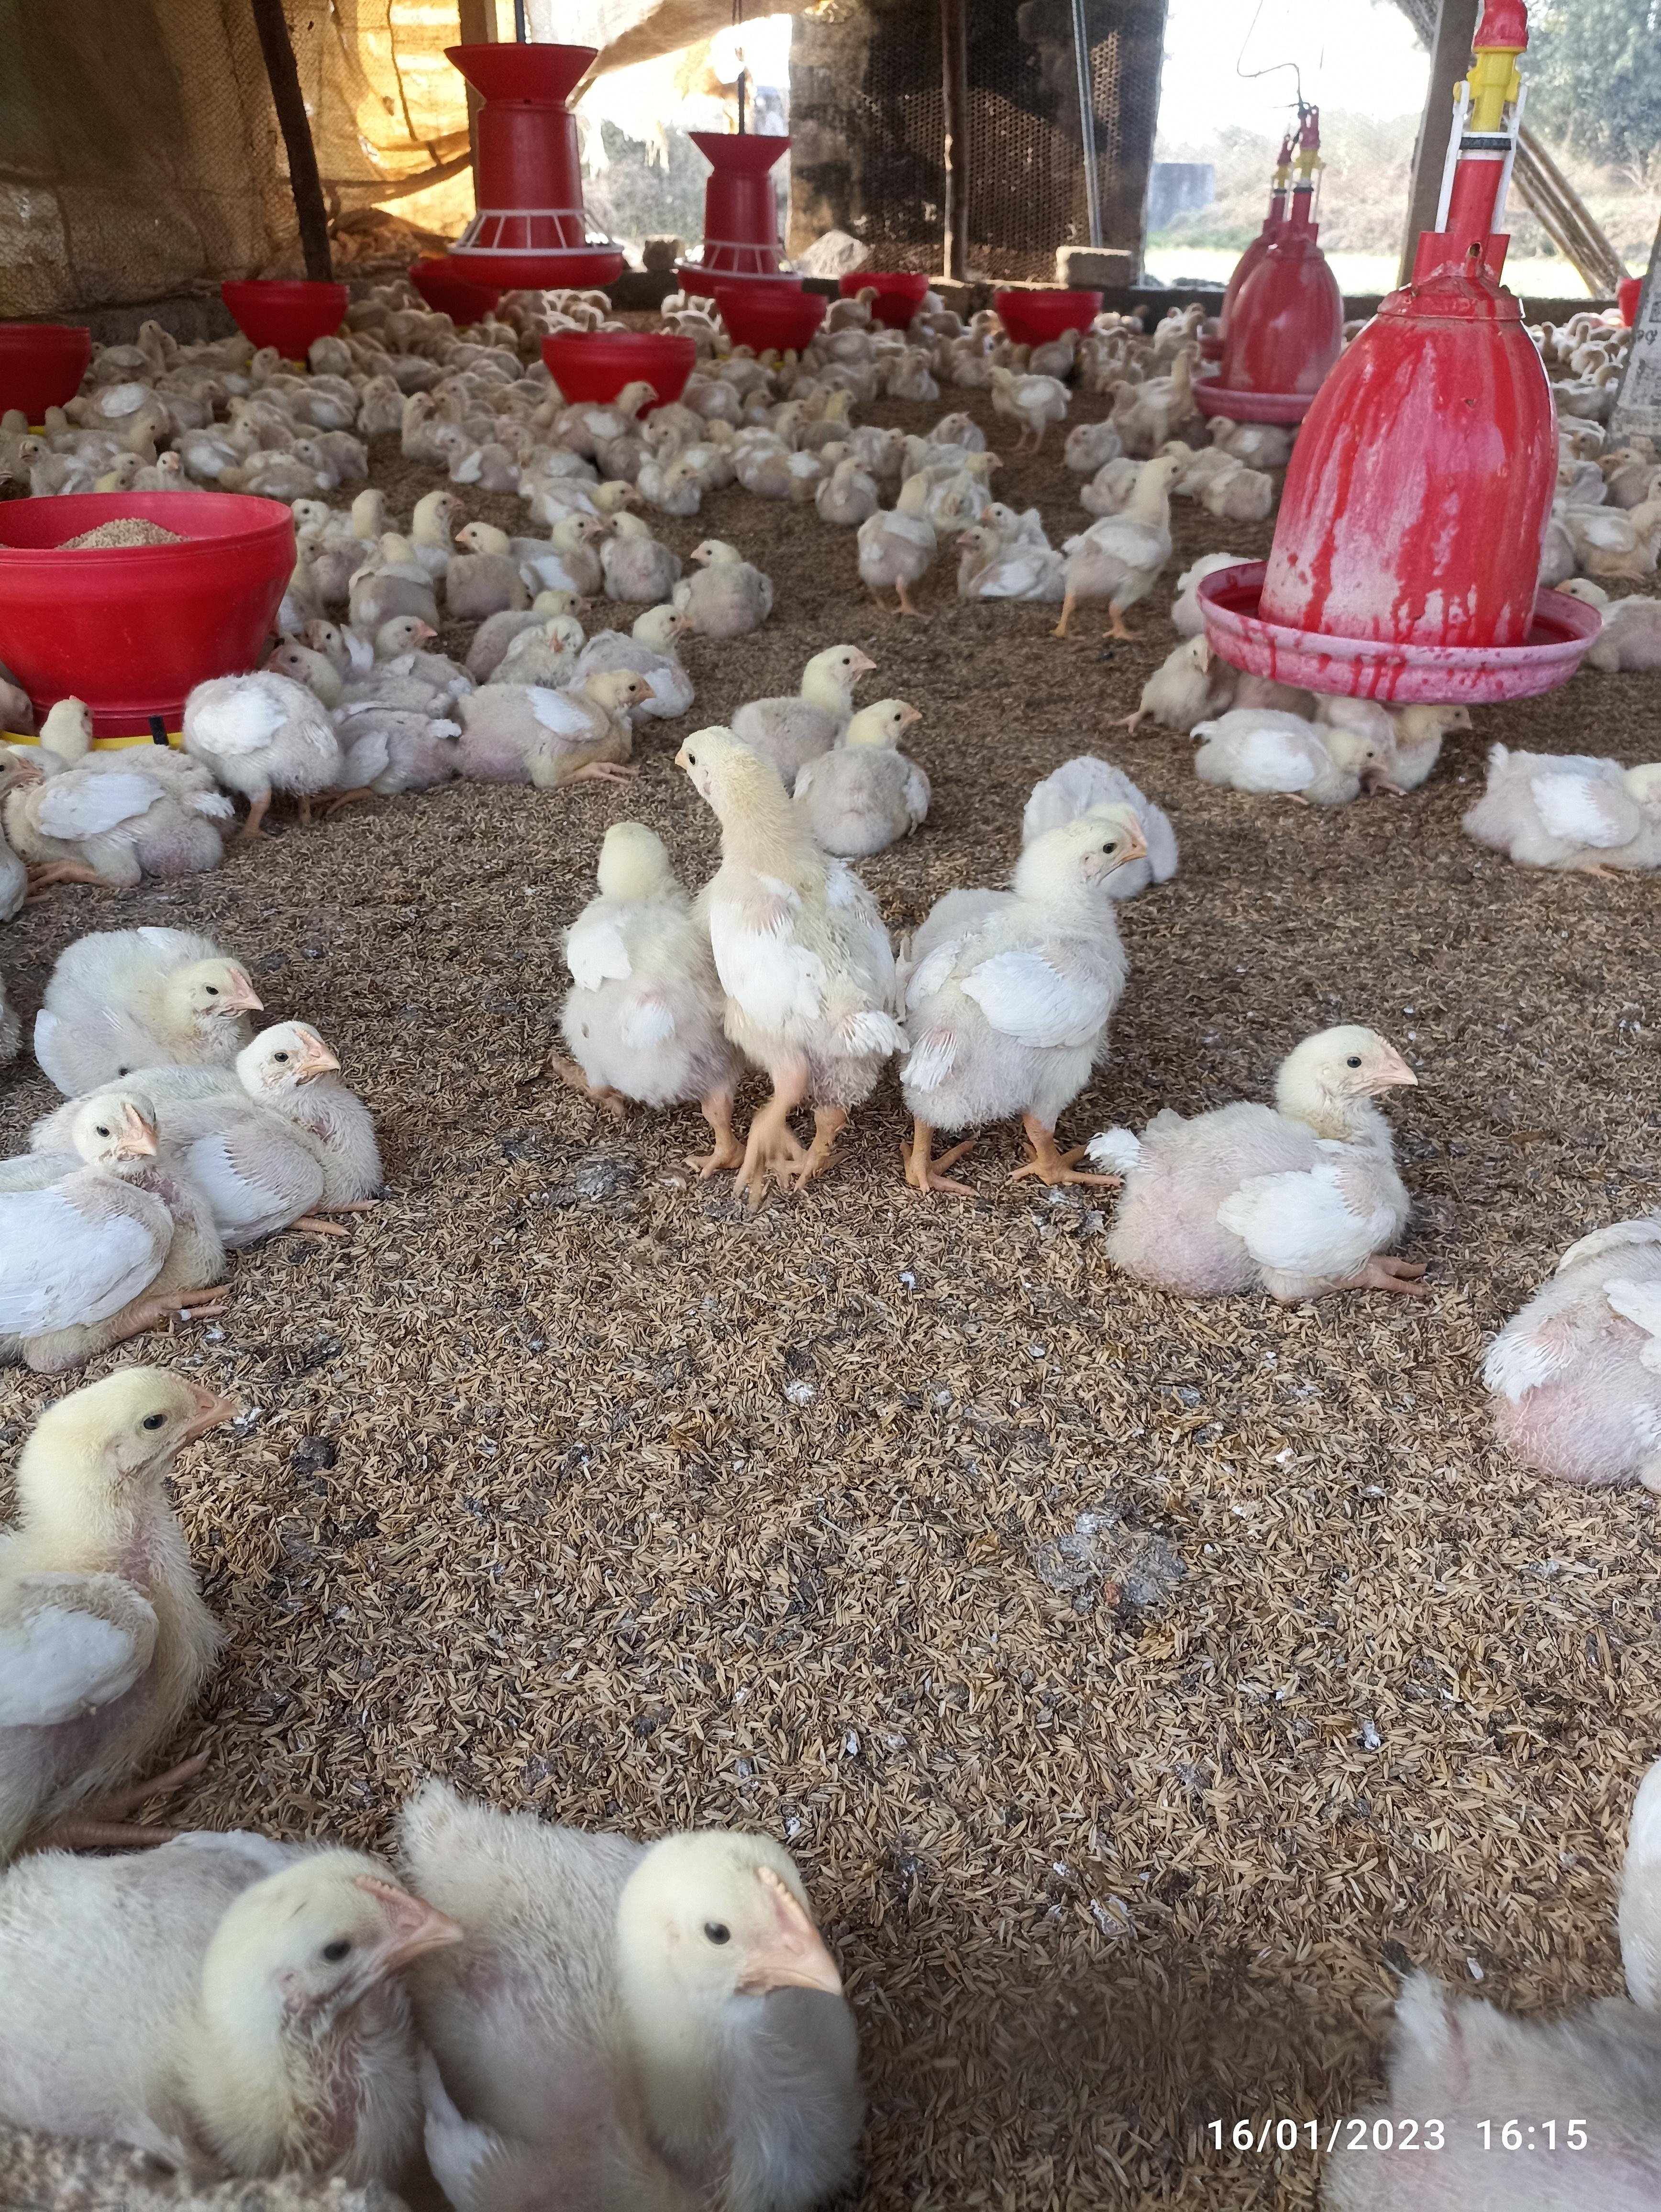Pollos: (417, 1790, 876, 2202), (2, 1825, 450, 2198), (0, 1355, 255, 1825), (1108, 1019, 1425, 1308), (902, 799, 1145, 1123), (668, 724, 848, 1097), (9, 1099, 222, 1342), (1495, 1197, 1661, 1504), (548, 799, 717, 1089), (171, 1015, 382, 1197), (9, 925, 265, 1069), (3, 734, 222, 881), (466, 666, 651, 776), (1068, 450, 1195, 607), (1462, 755, 1661, 853), (1195, 712, 1391, 799), (818, 701, 935, 843), (253, 635, 448, 717), (757, 637, 892, 755), (673, 536, 785, 625), (551, 375, 663, 459), (862, 476, 942, 588), (614, 602, 696, 705), (373, 488, 466, 579), (297, 490, 382, 586), (958, 523, 1056, 602), (979, 358, 1075, 426), (448, 520, 525, 598), (181, 412, 265, 476), (534, 509, 598, 586), (602, 506, 666, 583), (1141, 635, 1211, 703), (768, 440, 850, 497), (438, 433, 523, 487), (1106, 373, 1186, 431), (632, 459, 710, 516), (1202, 417, 1300, 455), (518, 612, 584, 665)
